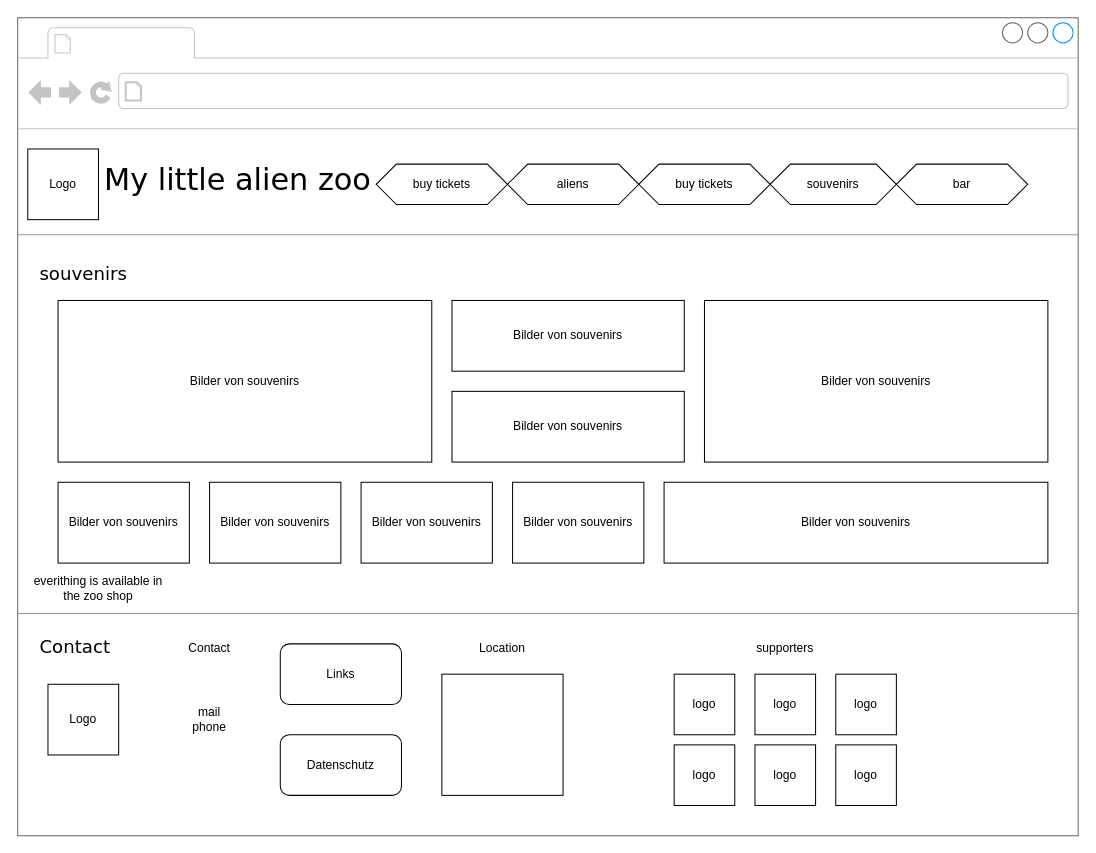
Image size: 1096x853. Some labels were removed from this diagram. Each missing label, with the centre of its shape:
"https://www.alienzoo.com" belongs at [274,91].
"mao" belongs at [502,734].
"Page 4" belongs at [133,42].
